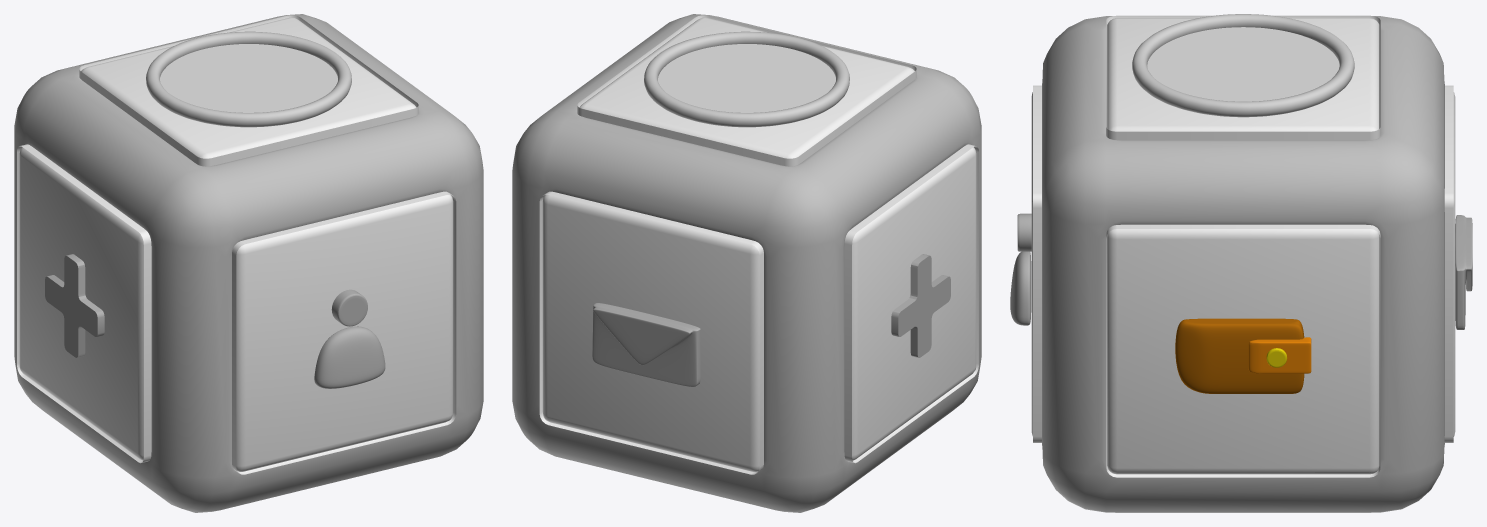
File: box_portfolio.glb
3 views of the same model, side by side, from view 1: azimuth 30°, elevation 25°; view 2: azimuth 150°, elevation 25°; view 3: azimuth 270°, elevation 25° (orthographic). The views are drawn at different scales.
Visible parts, largest first — view 1: Base_Cube, AboutMe_Panel, Hospital_Panel, Portal_Panel, Portal_Vortex, Portal_Ring, AboutMe_Icon, Hospital_Icon; view 2: Base_Cube, Mail_Panel, Hospital_Panel, Portal_Panel, Portal_Vortex, Mail_Icon, Portal_Ring, Hospital_Icon; view 3: Base_Cube, Wallet_Panel, Portal_Panel, Portal_Vortex, Wallet_Base, Portal_Ring, Mail_Panel, AboutMe_Panel, AboutMe_Icon, Wallet_Ribbon, Mail_Icon.
Part boxes in pixels (bbox=[...]): Base_Cube: bbox=[14, 14, 483, 512]; AboutMe_Panel: bbox=[232, 191, 456, 474]; Hospital_Panel: bbox=[17, 144, 151, 463]; Portal_Panel: bbox=[79, 15, 418, 166]; Portal_Vortex: bbox=[160, 44, 337, 112]; Portal_Ring: bbox=[146, 31, 351, 127]; AboutMe_Icon: bbox=[314, 289, 385, 388]; Hospital_Icon: bbox=[45, 254, 104, 357]; Base_Cube: bbox=[512, 14, 981, 512]; Mail_Panel: bbox=[539, 191, 763, 474]; Hospital_Panel: bbox=[844, 144, 978, 463]; Portal_Panel: bbox=[577, 15, 916, 166]; Portal_Vortex: bbox=[658, 44, 835, 112]; Mail_Icon: bbox=[592, 303, 700, 386]; Portal_Ring: bbox=[644, 31, 849, 127]; Hospital_Icon: bbox=[891, 254, 950, 357]; Base_Cube: bbox=[1042, 16, 1444, 512]; Wallet_Panel: bbox=[1106, 224, 1380, 477]; Portal_Panel: bbox=[1106, 15, 1380, 140]; Portal_Vortex: bbox=[1147, 27, 1339, 101]; Wallet_Base: bbox=[1175, 318, 1304, 393]; Portal_Ring: bbox=[1132, 14, 1354, 117]; Mail_Panel: bbox=[1444, 85, 1455, 442]; AboutMe_Panel: bbox=[1031, 85, 1041, 442]; AboutMe_Icon: bbox=[1010, 213, 1031, 325]; Wallet_Ribbon: bbox=[1248, 337, 1311, 373]; Mail_Icon: bbox=[1455, 215, 1472, 329].
Bounding box in the file's own units: 0.5809 × 0.5522 × 0.5825.
